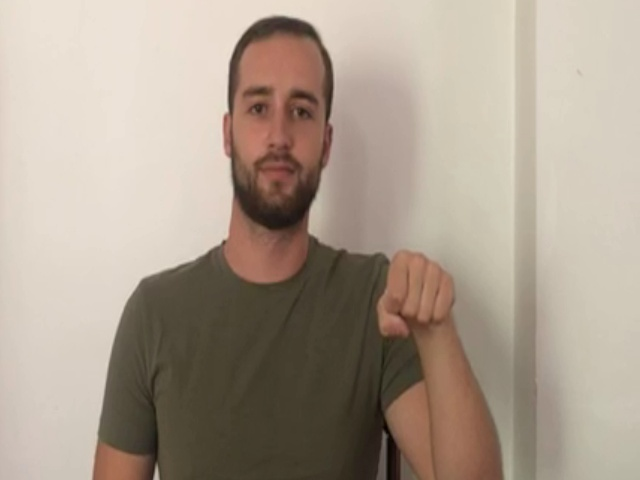Da: (374, 249, 459, 338)
